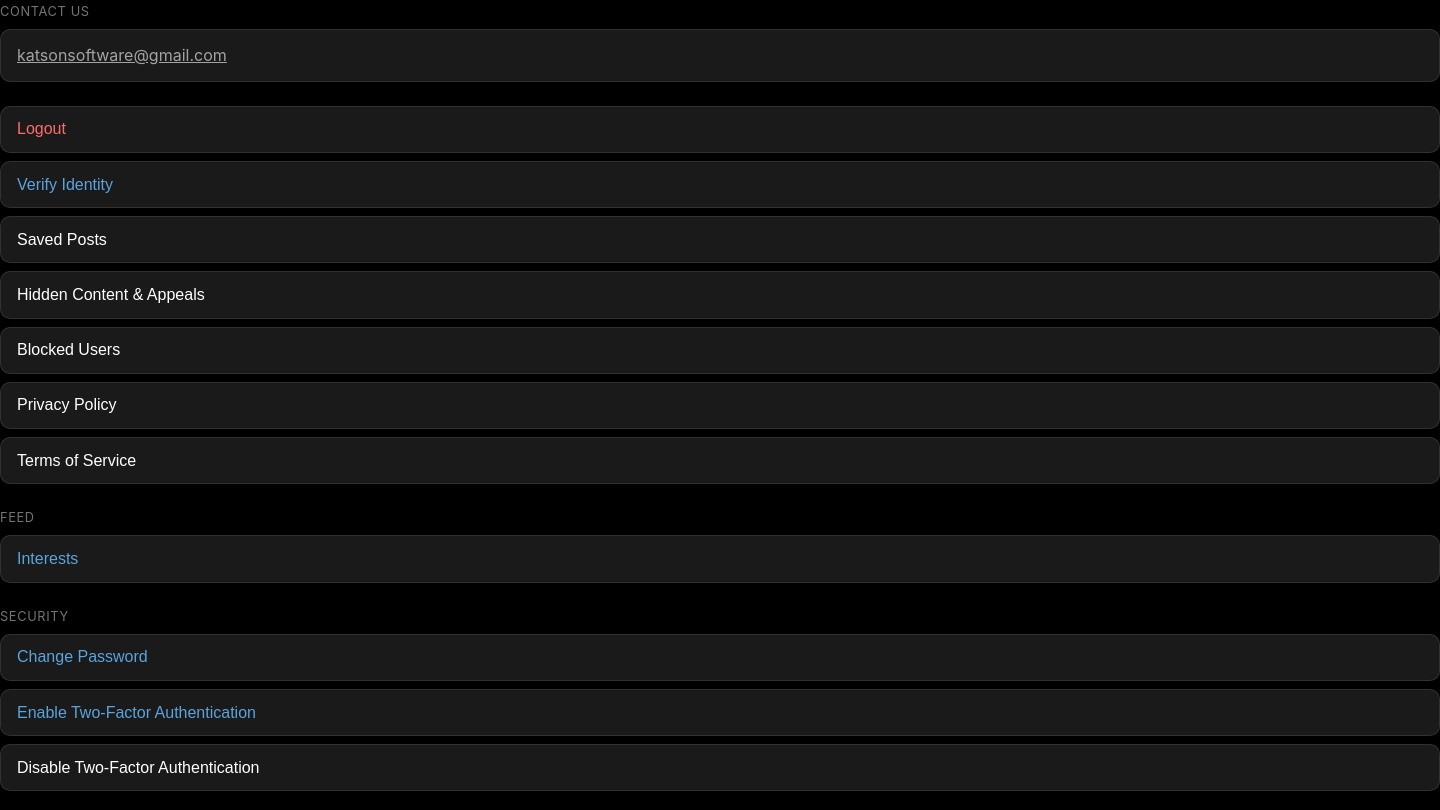
privacy policy can be shown
(page scrolled)
Click the button "Privacy Policy" at {"x": 67, "y": 405}, box [0, 382, 1439, 429]
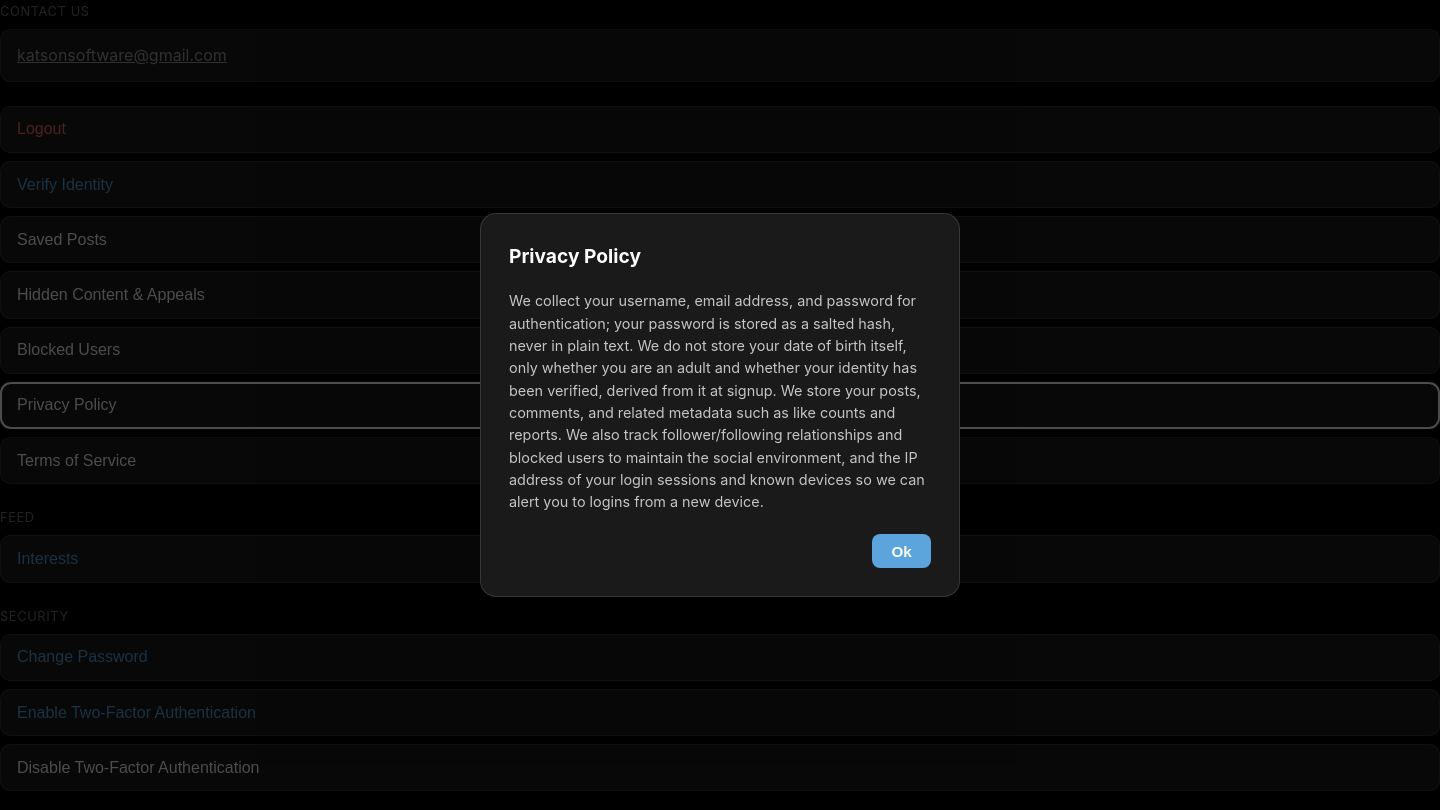
Expected: the dialog "Privacy Policy" is shown, [480, 213, 960, 597]
